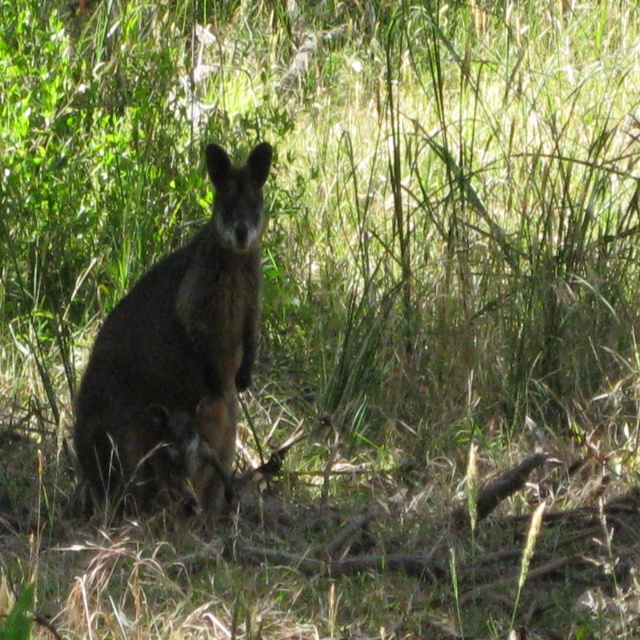Kangaroo: (73, 142, 273, 535)
